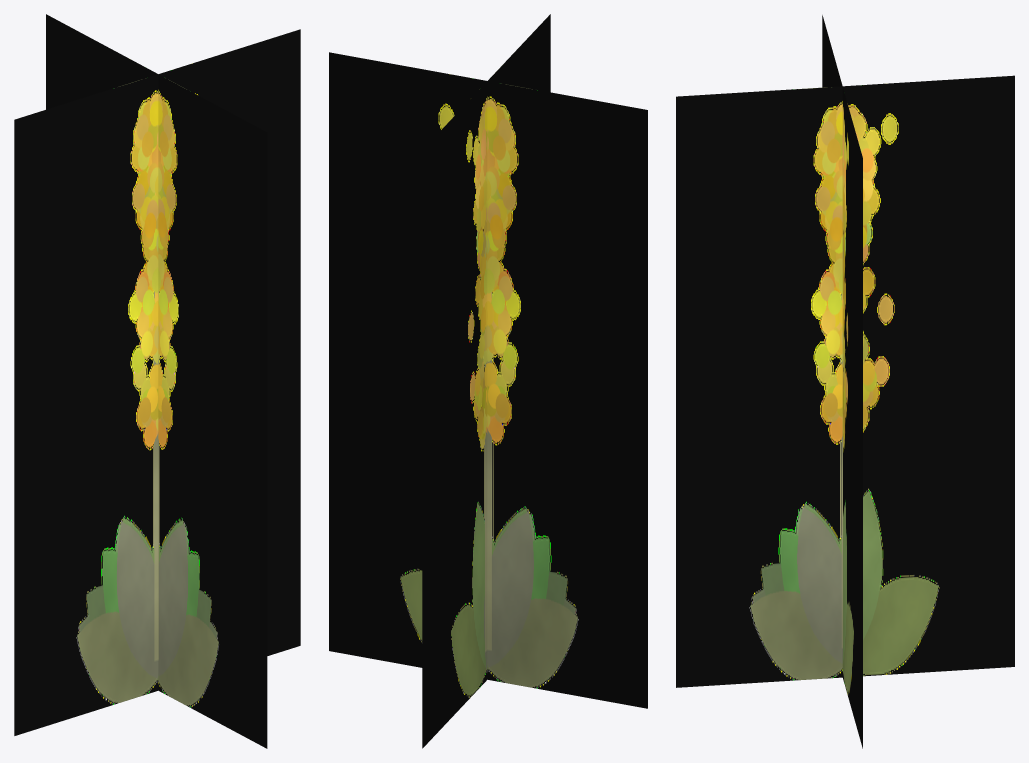
File: Plant_Mullein_1_LOD1.gltf
3 views of the same model, side by side, from view 1: azimuth 30°, elevation 25°; view 2: azimuth 150°, elevation 25°; view 3: azimuth 270°, elevation 25° (orthographic). The views are drawn at different scales.
Parts seen in each view (by area): view 1: Plant_Mullein_1_LOD1; view 2: Plant_Mullein_1_LOD1; view 3: Plant_Mullein_1_LOD1.
Part boxes in pixels (x1=…): Plant_Mullein_1_LOD1: x1=14, y1=14, x2=300, y2=748; Plant_Mullein_1_LOD1: x1=329, y1=14, x2=647, y2=748; Plant_Mullein_1_LOD1: x1=676, y1=15, x2=1014, y2=748.
Bounding box in the file's own units: 0.6951 × 1.33 × 0.6926.
1 material, 1 textured.
